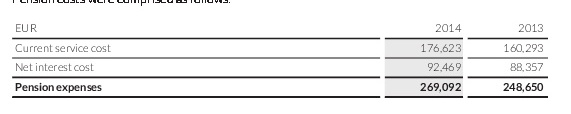table: (0, 0, 571, 114)
